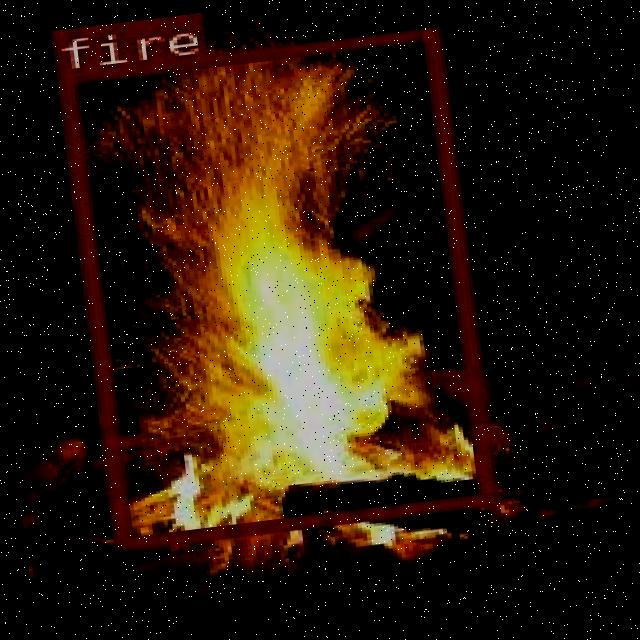fire: (53, 25, 496, 548)
